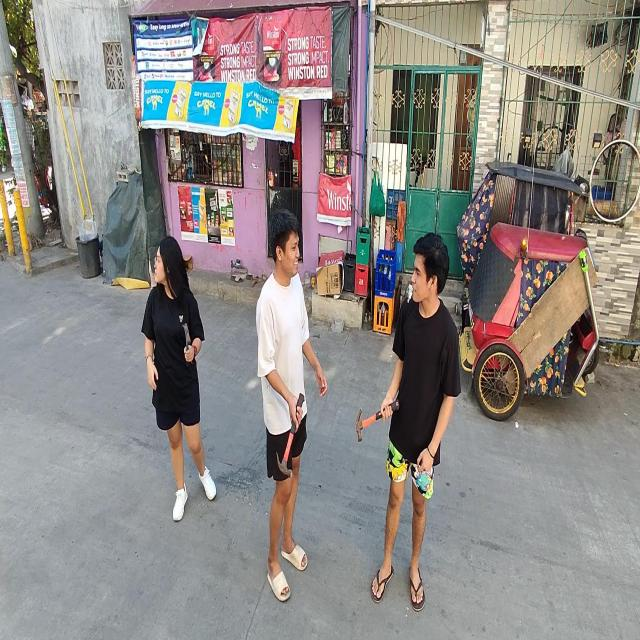hammer: (276, 393, 305, 478), (356, 399, 399, 442), (182, 323, 191, 367)
